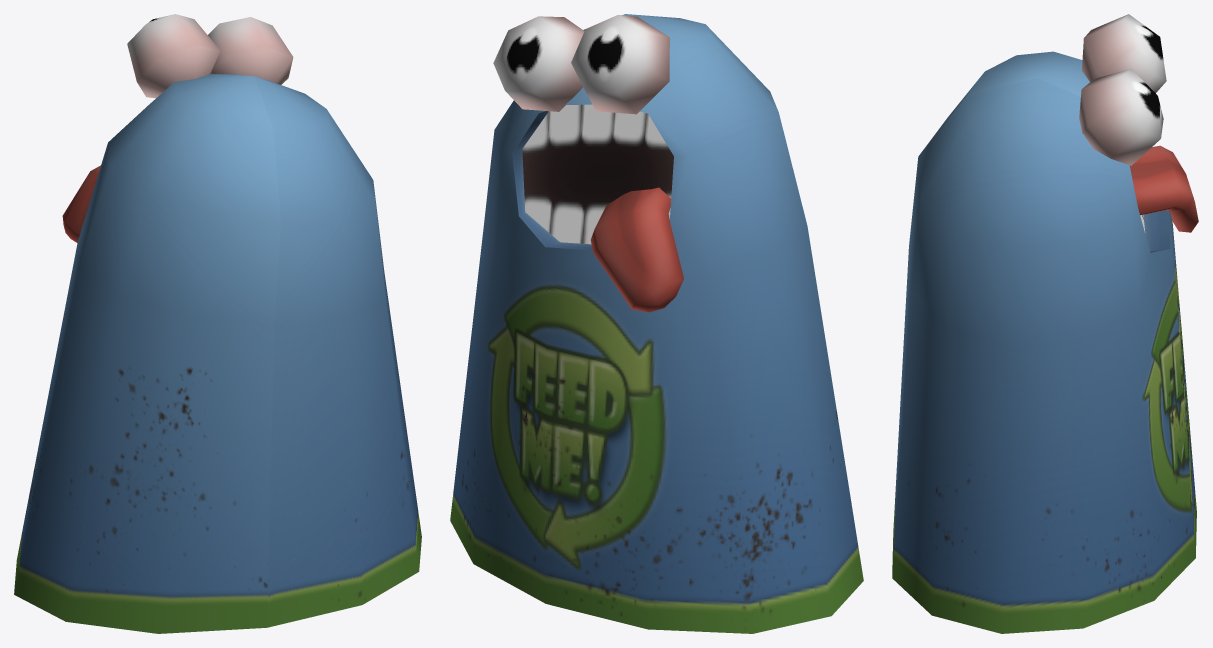
The model's file is ETC0210023.fbx.
3 renders of one model, left to right at view 1: azimuth 30°, elevation 25°; view 2: azimuth 150°, elevation 25°; view 3: azimuth 270°, elevation 25°, orthographic. The views are drawn at different scales.
Parts seen in each view (by area): view 1: smETC0210023; view 2: smETC0210023; view 3: smETC0210023.
Part boxes in pixels (left/top/right/bottom): smETC0210023: left=14, top=14, right=421, bottom=633; smETC0210023: left=450, top=14, right=863, bottom=633; smETC0210023: left=892, top=14, right=1198, bottom=633.
Size of the model in its own units: 148 by 203 by 108.
1 material, 1 textured.
